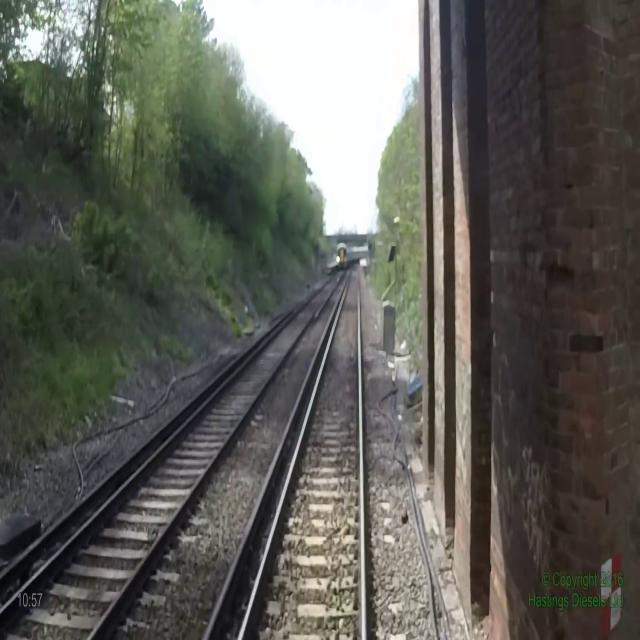rail-track: (0, 269, 344, 639), (242, 264, 361, 639)
